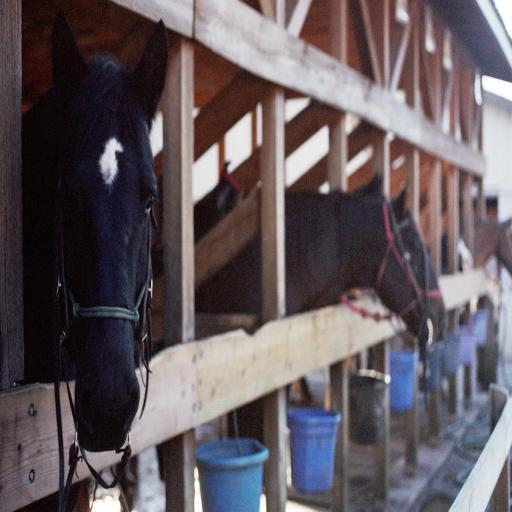horse: (16, 6, 170, 510), (193, 169, 429, 443), (298, 178, 448, 348)
